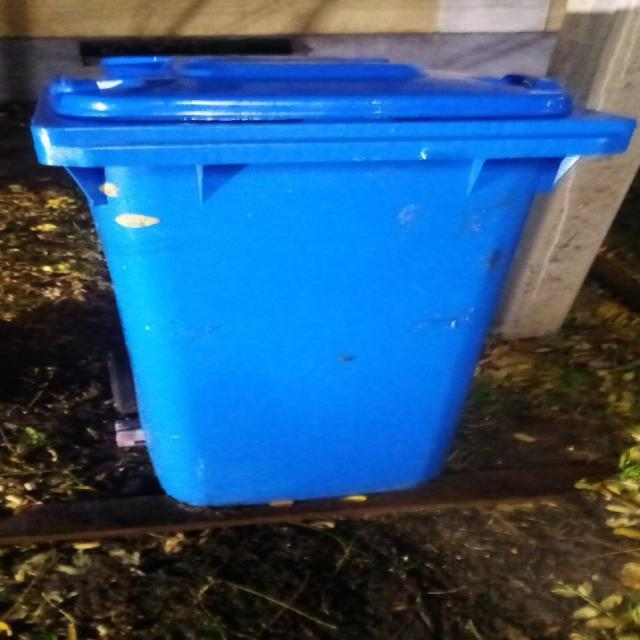Dumpster: (29, 55, 640, 507)
